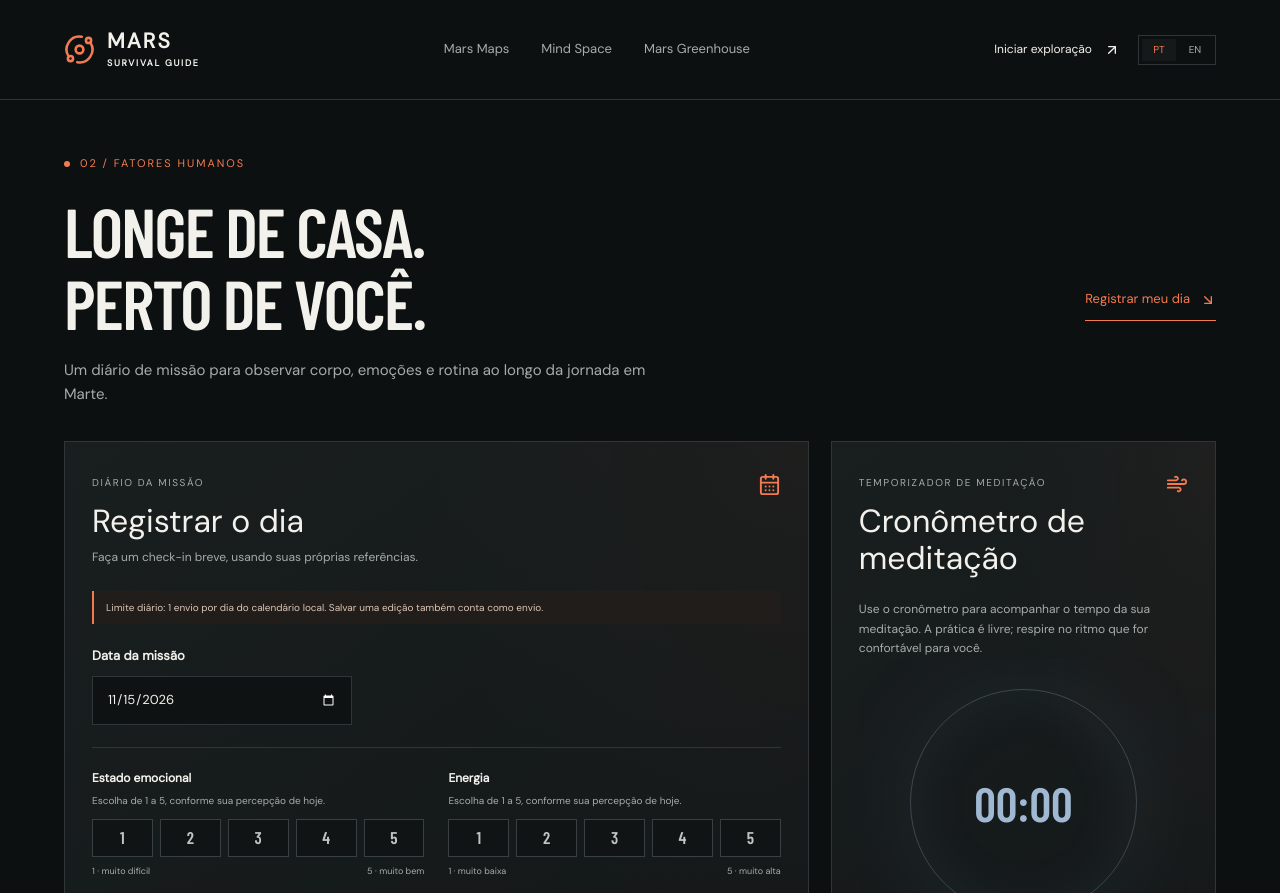
Test: site language › translates the Mind Space screen and keeps its controls interactive
The width and height of the screenshot is (1280, 893).
Step 1. Click the button "EN" → [1195, 50], box [1178, 38, 1212, 60]
(page scrolled)
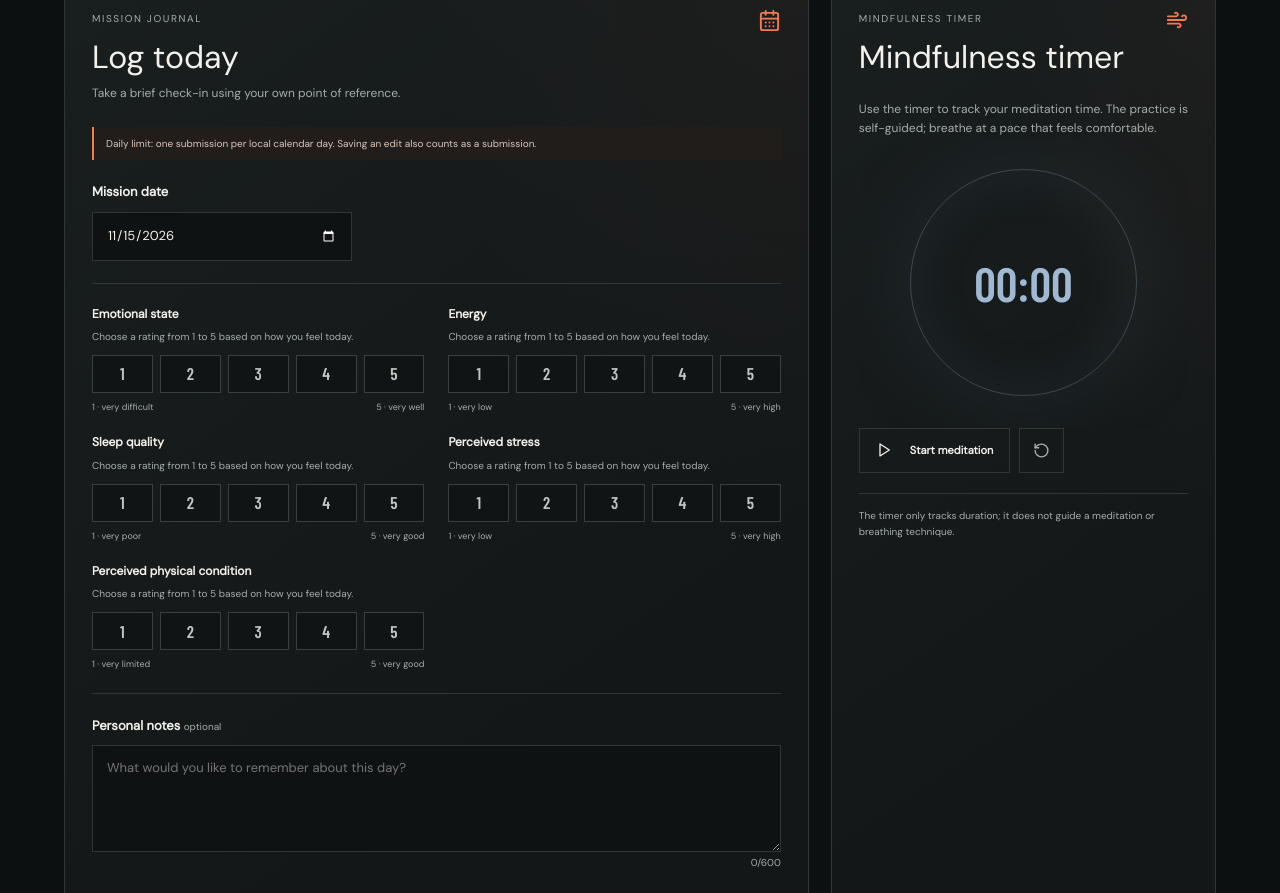
Result: the text "MISSION JOURNAL" is shown at [92, 12, 202, 25]
Step 2. Click the button "Start meditation" → [935, 450], box [859, 428, 1010, 473]
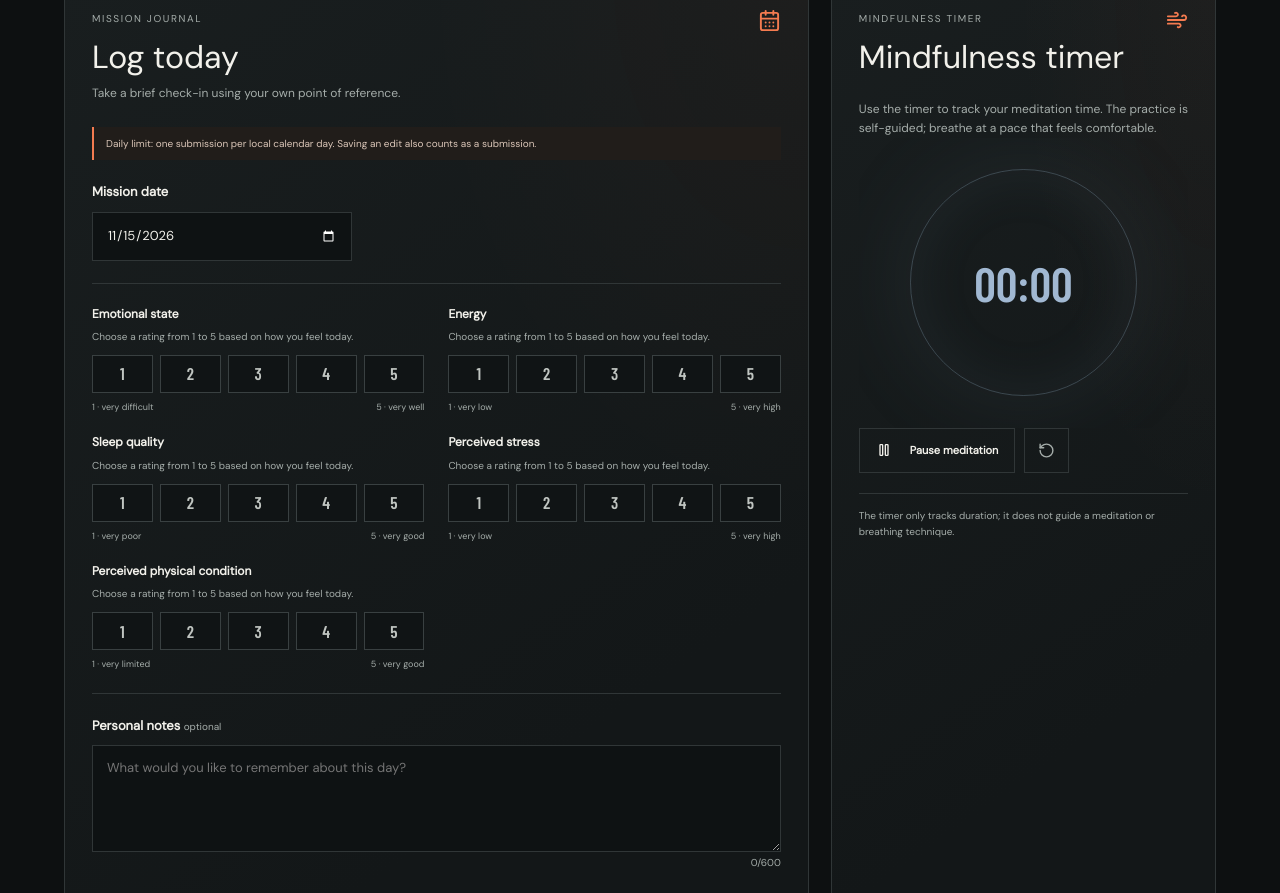
Result: the button "Pause meditation" is shown at [859, 428, 1015, 473]
